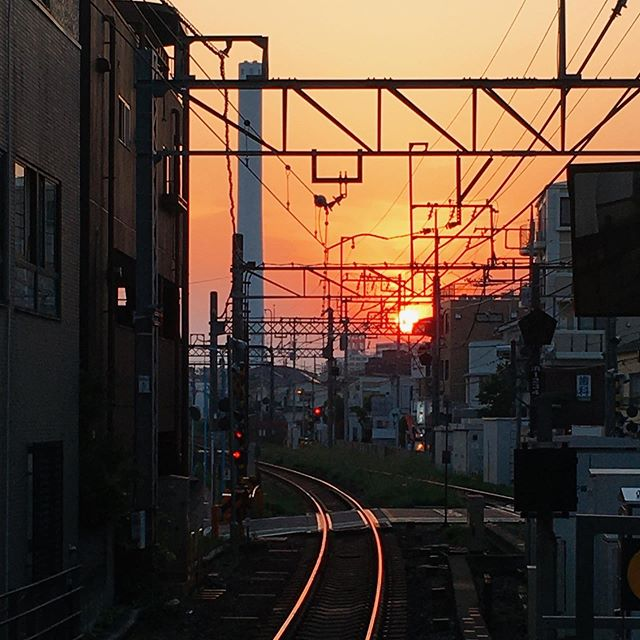building: (91, 1, 203, 631), (1, 1, 88, 637), (537, 185, 640, 640), (432, 298, 532, 479), (345, 339, 451, 461)
sky: (169, 1, 640, 272)
sun: (382, 288, 428, 343)
train track: (209, 441, 546, 640)
